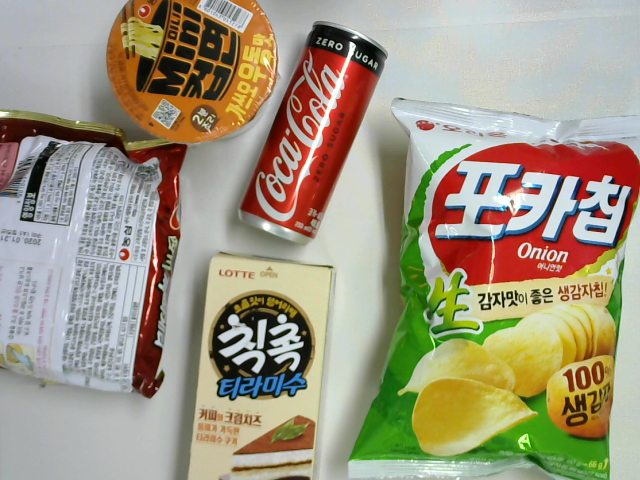Chicchok_Tiramisu: (182, 250, 344, 480)
Coca_Cola_Zero_Can_250ml: (239, 19, 388, 247)
Pocachip_Onion: (346, 94, 640, 480)
Sichuan_Chapaghetti: (1, 109, 192, 399)
Udongmini: (104, 1, 285, 150)
